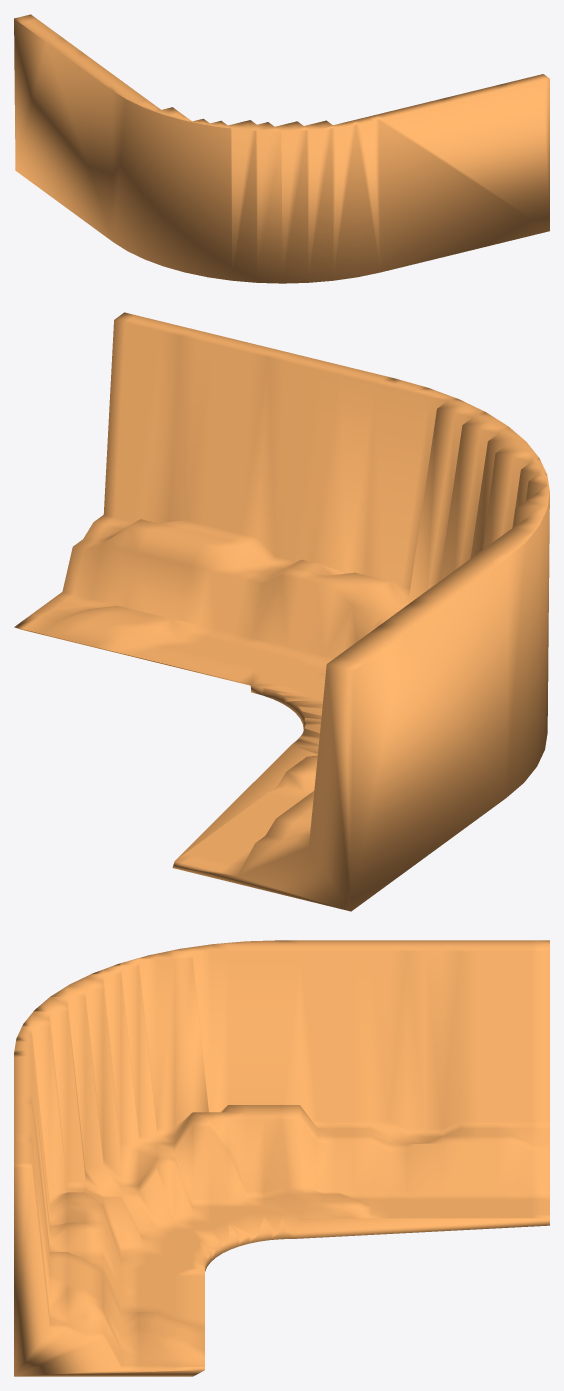
File: rightTurnOut.fbx
The picture shows the model from 3 angles, top to bottom: view 1: azimuth 30°, elevation 25°; view 2: azimuth 150°, elevation 25°; view 3: azimuth 270°, elevation 25°; orthographic projection. The views are drawn at different scales.
Parts seen in each view (by area): view 1: Group1; view 2: Group1; view 3: Group1.
Part boxes in pixels (x1=…): Group1: x1=14, y1=14, x2=549, y2=283; Group1: x1=14, y1=312, x2=549, y2=911; Group1: x1=14, y1=940, x2=549, y2=1376.
Bounding box in the file's own units: 3013 × 1290 × 3000.
